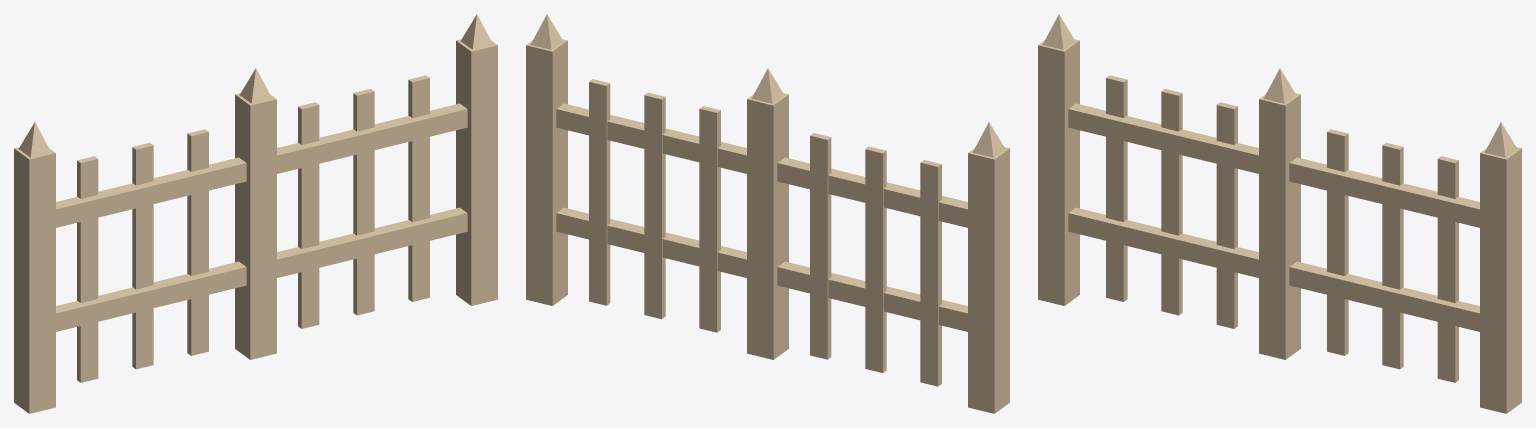
Rendered from prop_fence.glb.
3 renders of one model, left to right at view 1: azimuth 30°, elevation 25°; view 2: azimuth 150°, elevation 25°; view 3: azimuth 330°, elevation 25°, orthographic.
Parts seen in each view (by area): view 1: Cube, Cube.001, Cube.002, Cube.003, Cube.004, Cube.009, Cube.006, Cube.007, Cube.005, Cube.008, Cube.010, Cone (+2 smaller); view 2: Cube, Cube.001, Cube.002, Cube.004, Cube.003, Cube.008, Cube.009, Cube.005, Cube.006, Cube.007, Cube.010, Cone (+2 smaller); view 3: Cube.002, Cube, Cube.001, Cube.003, Cube.004, Cube.006, Cube.008, Cube.009, Cube.010, Cube.005, Cube.007, Cone (+2 smaller).
Boxes of the visible parts, box(x1,y1,x2,y2) form: Cube: box(14, 147, 55, 413); Cube.001: box(235, 93, 276, 359); Cube.002: box(456, 39, 497, 305); Cube.003: box(56, 207, 467, 331); Cube.004: box(56, 103, 467, 227); Cube.009: box(353, 88, 374, 315); Cube.006: box(132, 142, 153, 369); Cube.007: box(187, 129, 208, 355); Cube.005: box(77, 156, 98, 382); Cube.008: box(298, 102, 319, 328); Cube.010: box(408, 75, 429, 301); Cone: box(18, 122, 51, 157); Cube: box(968, 147, 1009, 413); Cube.001: box(747, 93, 788, 359); Cube.002: box(526, 39, 567, 305); Cube.004: box(556, 103, 967, 227); Cube.003: box(556, 207, 967, 331); Cube.008: box(699, 106, 720, 332); Cube.009: box(644, 92, 665, 319); Cube.005: box(920, 160, 941, 386); Cube.006: box(865, 146, 886, 372); Cube.007: box(810, 133, 831, 359); Cube.010: box(589, 79, 610, 305); Cone: box(972, 122, 1005, 157); Cube.002: box(1480, 147, 1521, 413); Cube: box(1038, 39, 1079, 305); Cube.001: box(1259, 93, 1300, 359); Cube.003: box(1068, 207, 1479, 331); Cube.004: box(1068, 103, 1479, 227); Cube.006: box(1161, 88, 1182, 315); Cube.008: box(1327, 129, 1348, 355); Cube.009: box(1382, 142, 1403, 369); Cube.010: box(1437, 156, 1458, 382); Cube.005: box(1106, 75, 1127, 301); Cube.007: box(1216, 102, 1237, 328); Cone: box(1042, 14, 1074, 49).
Size of the model in its own units: 2.12 by 1.22 by 0.12.
